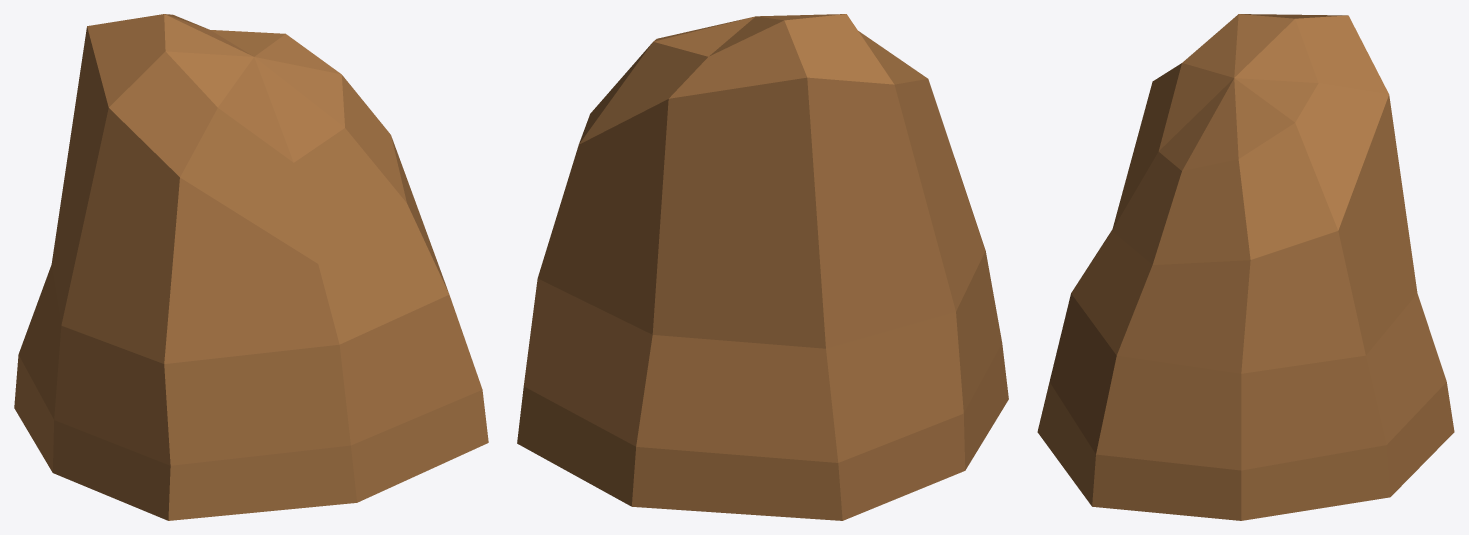
The model's file is Large_Rock_1_1_1_Colored.fbx.
The picture shows the model from 3 angles, left to right: view 1: azimuth 30°, elevation 25°; view 2: azimuth 150°, elevation 25°; view 3: azimuth 270°, elevation 25°; orthographic projection. The views are drawn at different scales.
Visible parts, largest first — view 1: Large_Rock_1_1_1; view 2: Large_Rock_1_1_1; view 3: Large_Rock_1_1_1.
Part boxes in pixels (<box>): Large_Rock_1_1_1: <box>14,14,488,520</box>; Large_Rock_1_1_1: <box>517,14,1008,520</box>; Large_Rock_1_1_1: <box>1037,14,1454,520</box>.
Size of the model in its own units: 99.35 by 98.83 by 96.71.
